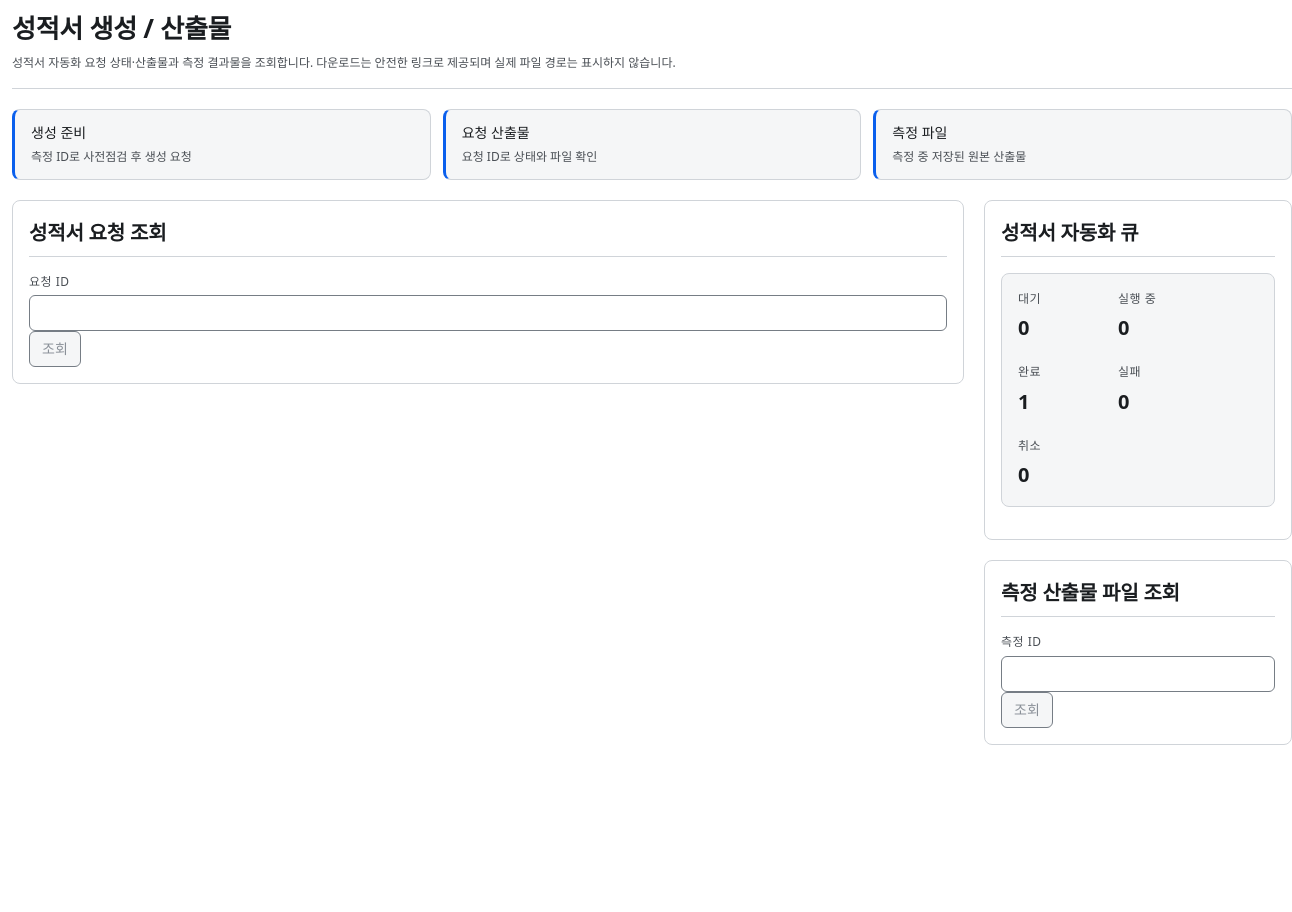
Test: ReportsRoute request lookup + missing diagnostics › shows request status and flags a missing output file
Type "9" into the field with test id "request-id-input" at (488, 313), box [29,295,947,332]
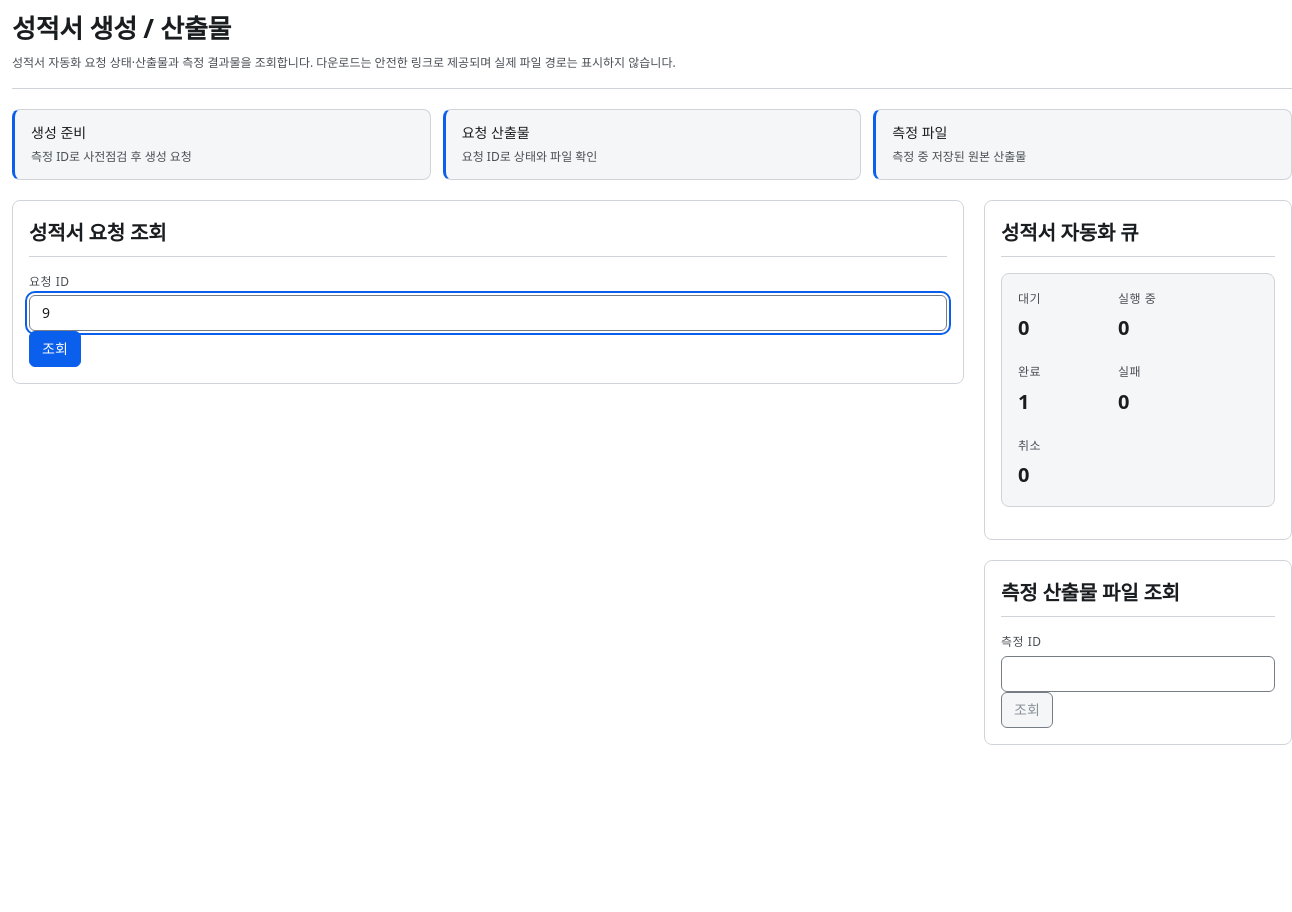
Click the button with test id "request-lookup" at (55, 350), box [29,332,81,368]
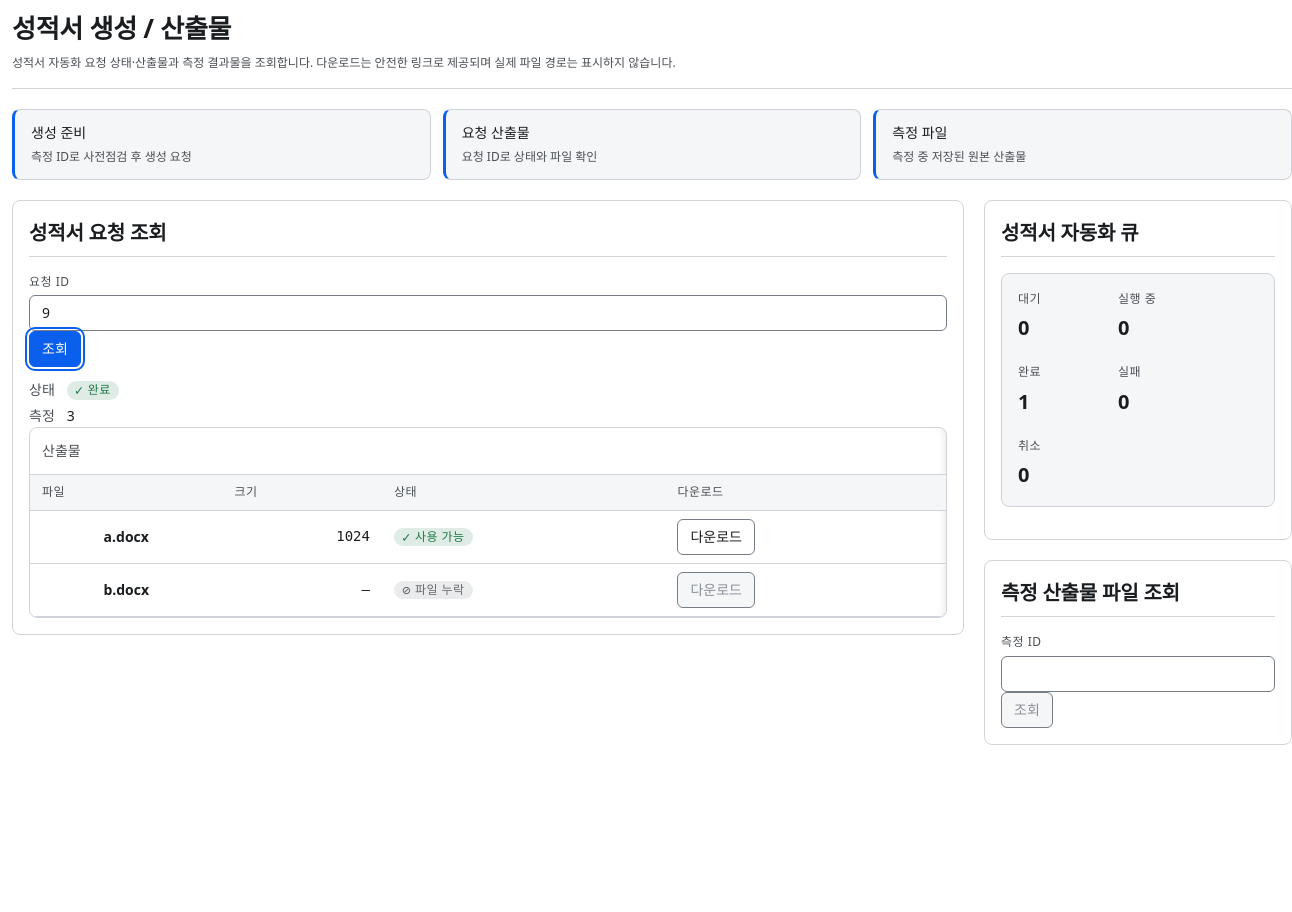
Now the element with test id "request-status" shows "완료", box [88,381,111,398]
Now the number of rows with test id "output-row" is 2, box [30,510,946,564]; [30,564,946,616]
Now the element with test id "output-missing" is shown, box [394,581,473,599]
